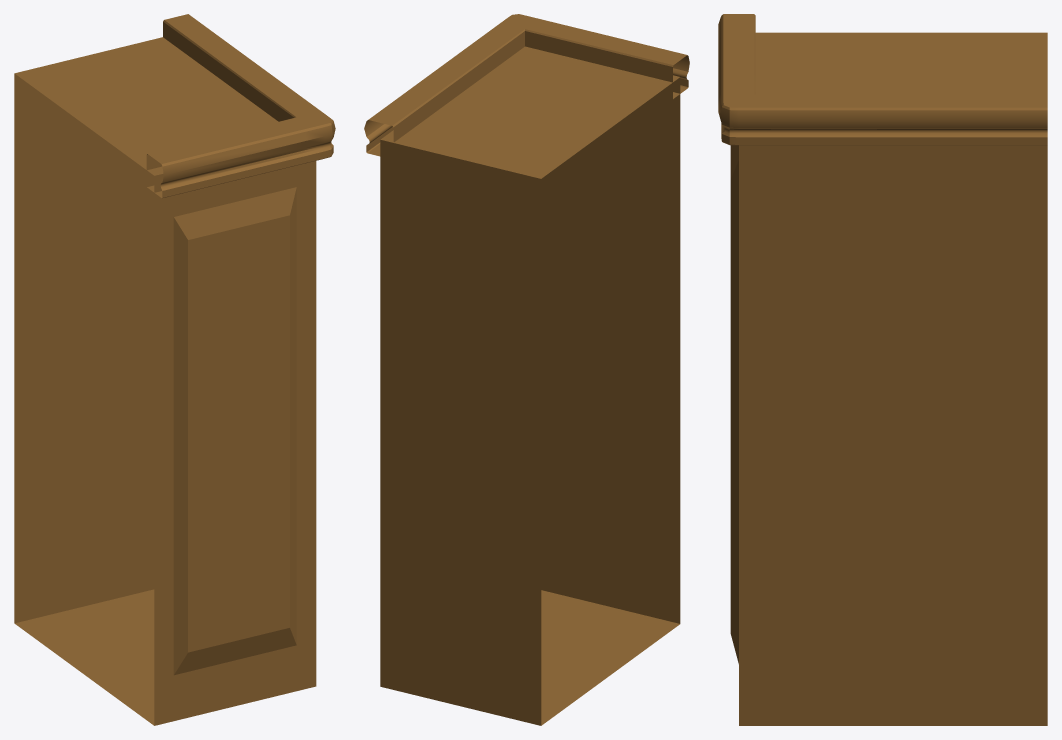
File: Cabinet_End.fbx
3 views of the same model, side by side, from view 1: azimuth 30°, elevation 25°; view 2: azimuth 150°, elevation 25°; view 3: azimuth 270°, elevation 25° (orthographic). The views are drawn at different scales.
Visible parts, largest first — view 1: Cabinet_End; view 2: Cabinet_End; view 3: Cabinet_End.
Boxes of the visible parts, left/top/right/bottom form: Cabinet_End: left=14, top=14, right=335, bottom=725; Cabinet_End: left=364, top=14, right=689, bottom=725; Cabinet_End: left=718, top=14, right=1047, bottom=725.
Bounding box in the file's own units: 0.5505 × 1.68 × 0.8005.
